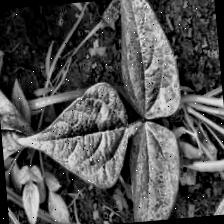ALS: (15, 72, 129, 196), (109, 0, 181, 113), (126, 122, 186, 223)
